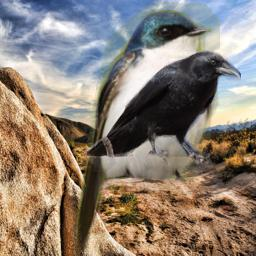Crow: (78, 49, 241, 172)
Swallow: (76, 1, 220, 252)
